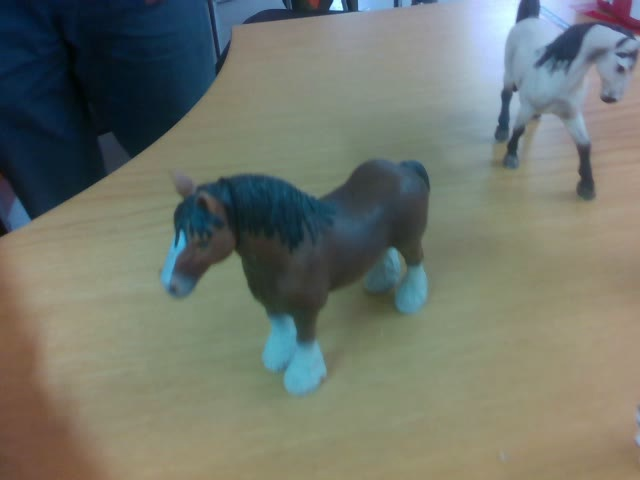toy: (162, 159, 434, 396), (493, 1, 639, 201)
